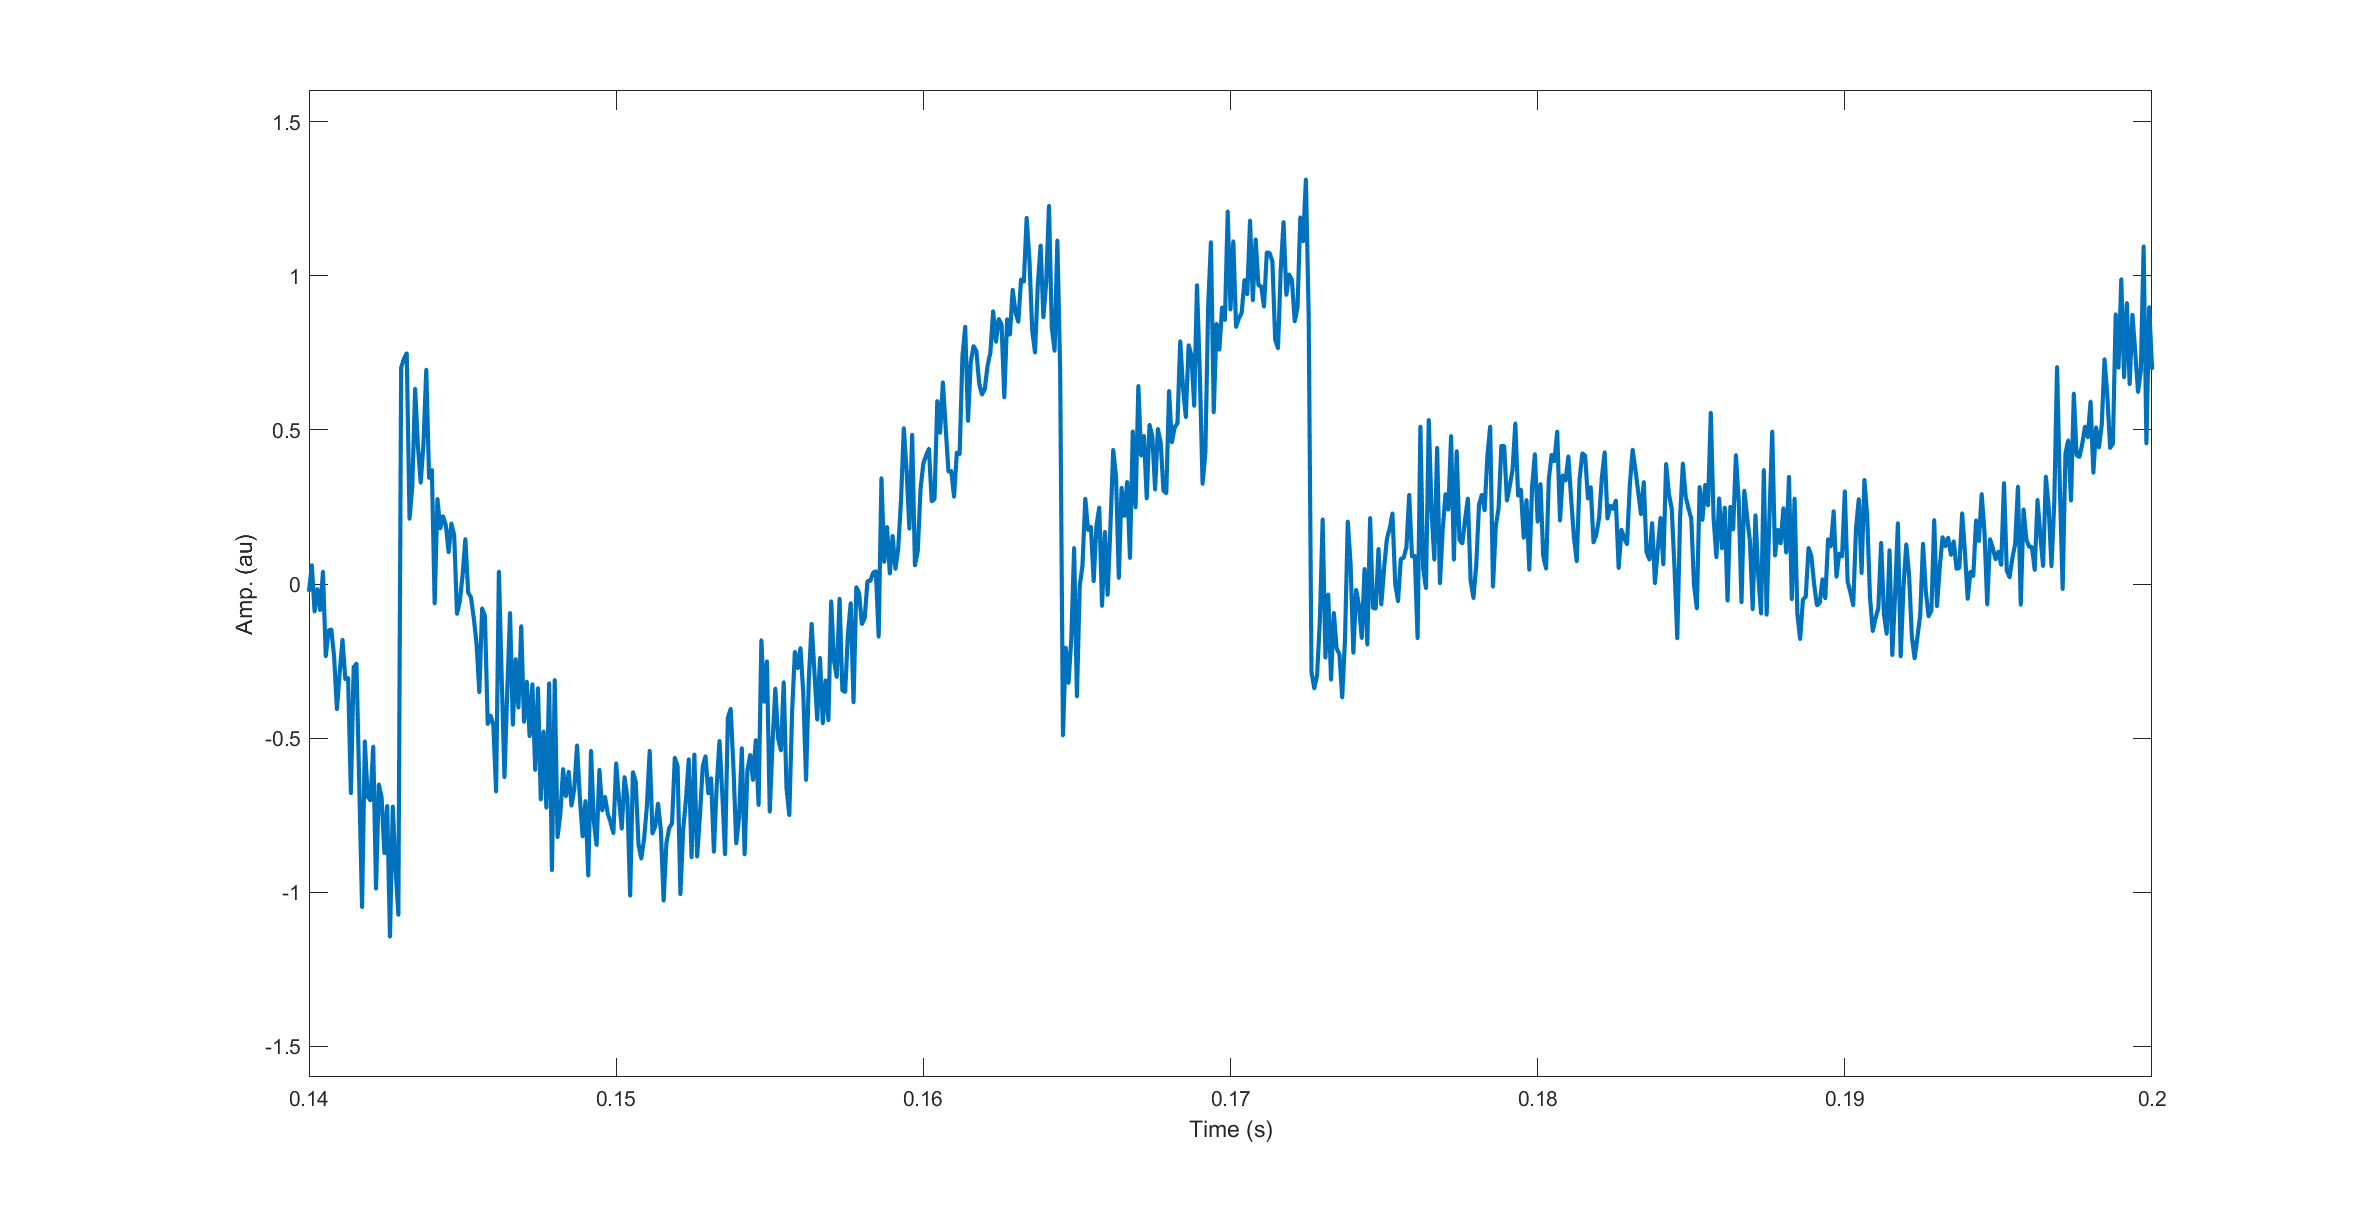negative_fringe: (387, 341, 532, 941)
positive_fringe: (1093, 162, 1321, 691), (886, 187, 1069, 730)
